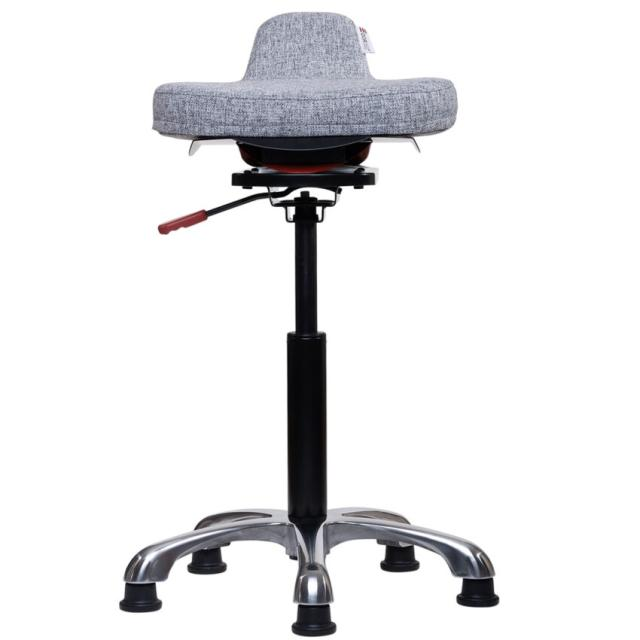chair: (75, 0, 586, 640)
